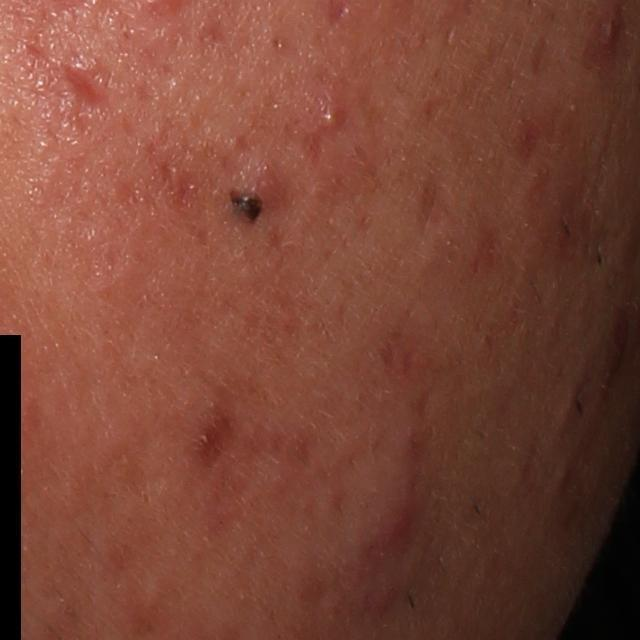atrophic_scar: (417, 177, 455, 242), (62, 62, 109, 107)
comedo: (264, 33, 288, 55)
papule: (359, 477, 426, 563), (596, 1, 633, 51)
pustule: (318, 101, 350, 129)
